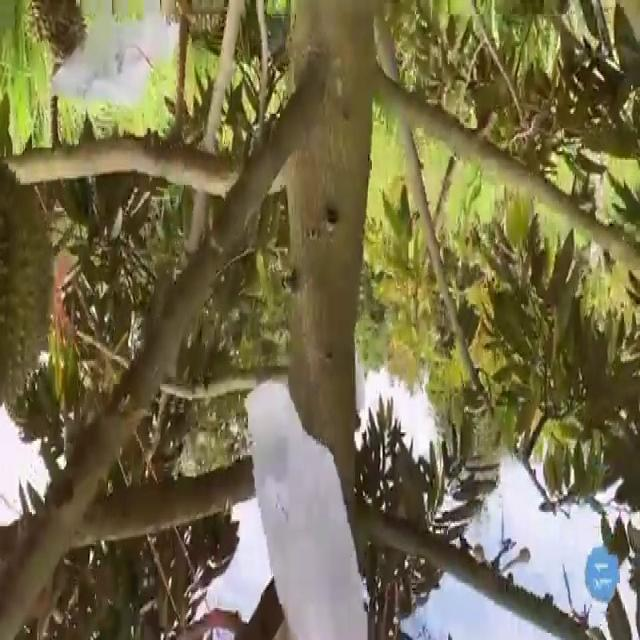durian: (0, 140, 59, 414), (30, 2, 91, 81)
